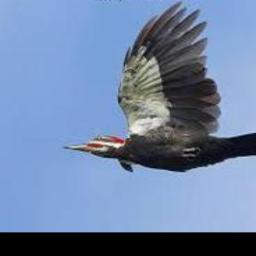Woodpecker: (61, 1, 256, 171)
